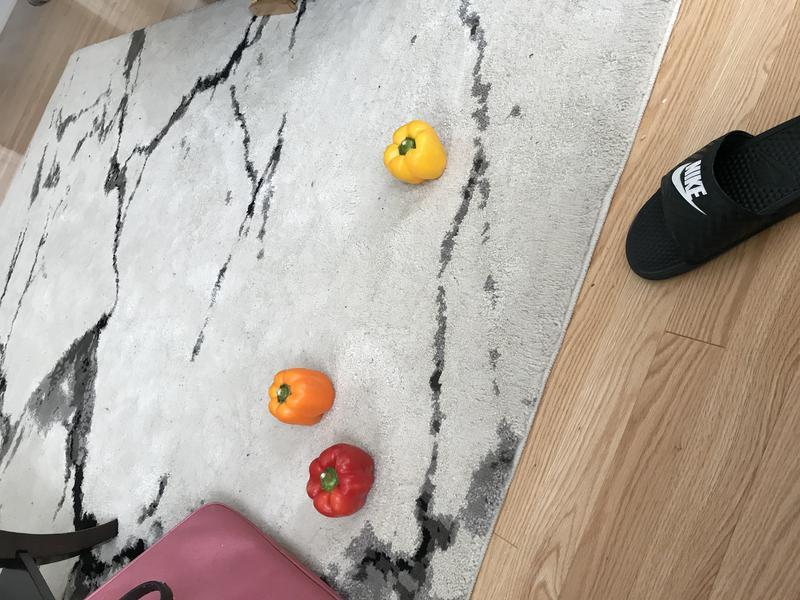orange_pepper: (262, 367, 345, 432)
red_pepper: (303, 438, 382, 522)
yellow_pepper: (379, 116, 449, 187)
